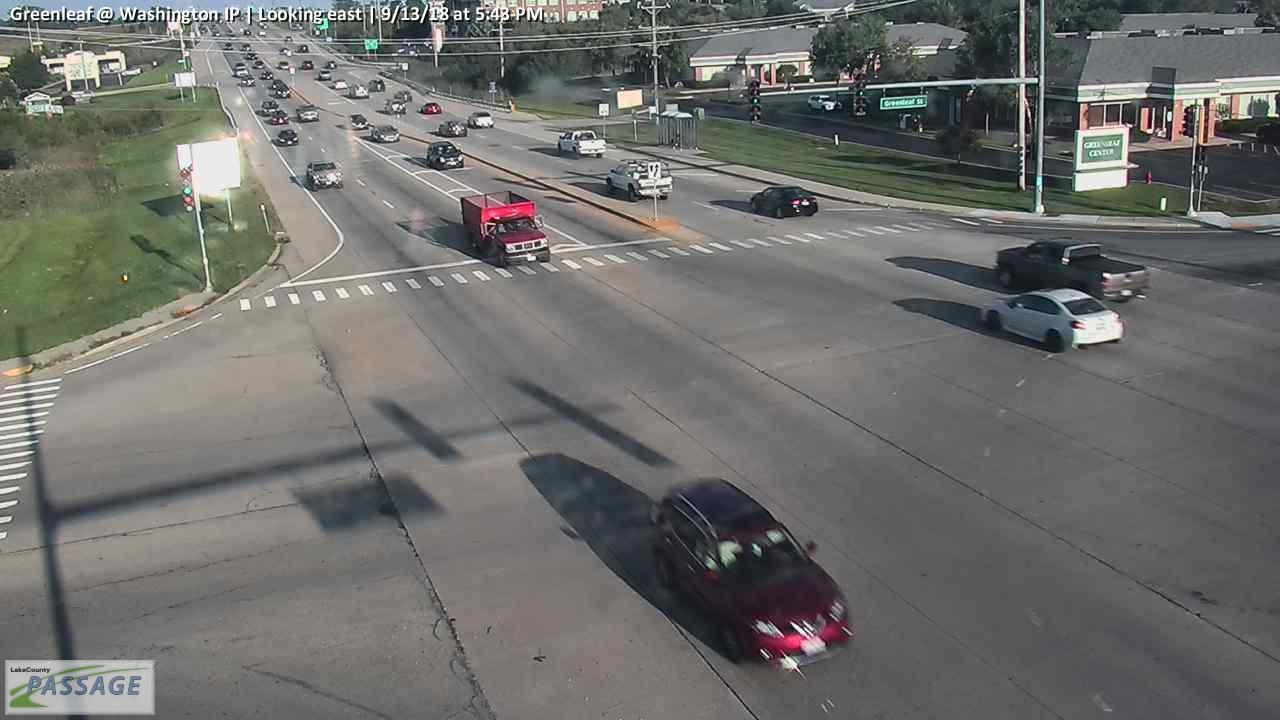SUV: (653, 476, 853, 667), (426, 141, 465, 171), (306, 161, 343, 189)
Sedan: (980, 288, 1123, 350), (750, 186, 819, 220), (370, 124, 401, 142), (439, 119, 468, 136), (467, 110, 494, 128), (296, 104, 320, 121), (276, 129, 299, 146), (350, 113, 367, 129), (349, 83, 368, 97), (385, 100, 407, 112), (271, 110, 288, 124), (262, 99, 279, 112), (421, 102, 441, 113), (240, 75, 256, 88), (274, 86, 291, 98), (394, 90, 413, 100), (368, 80, 385, 91), (318, 68, 330, 79), (334, 79, 347, 89), (234, 66, 248, 74), (300, 61, 313, 69), (260, 71, 273, 79), (280, 61, 289, 69), (255, 61, 264, 68)
Truck: (996, 238, 1150, 305), (460, 189, 551, 267), (603, 158, 673, 201), (556, 129, 606, 156)
